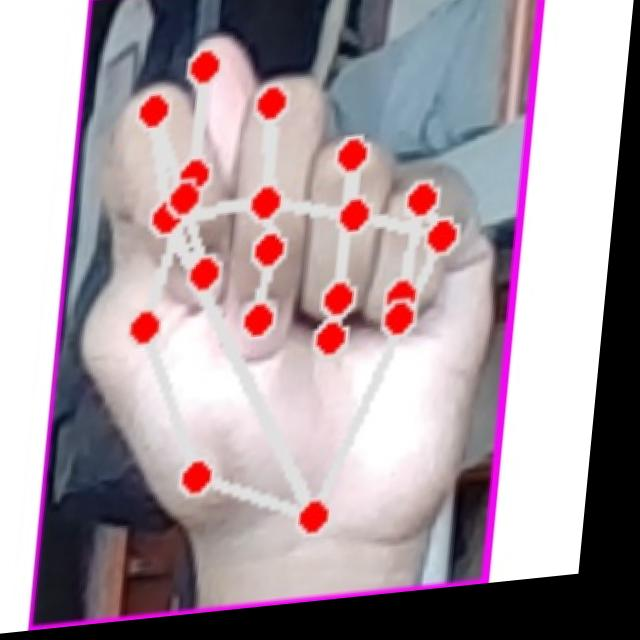T: (60, 0, 532, 581)
